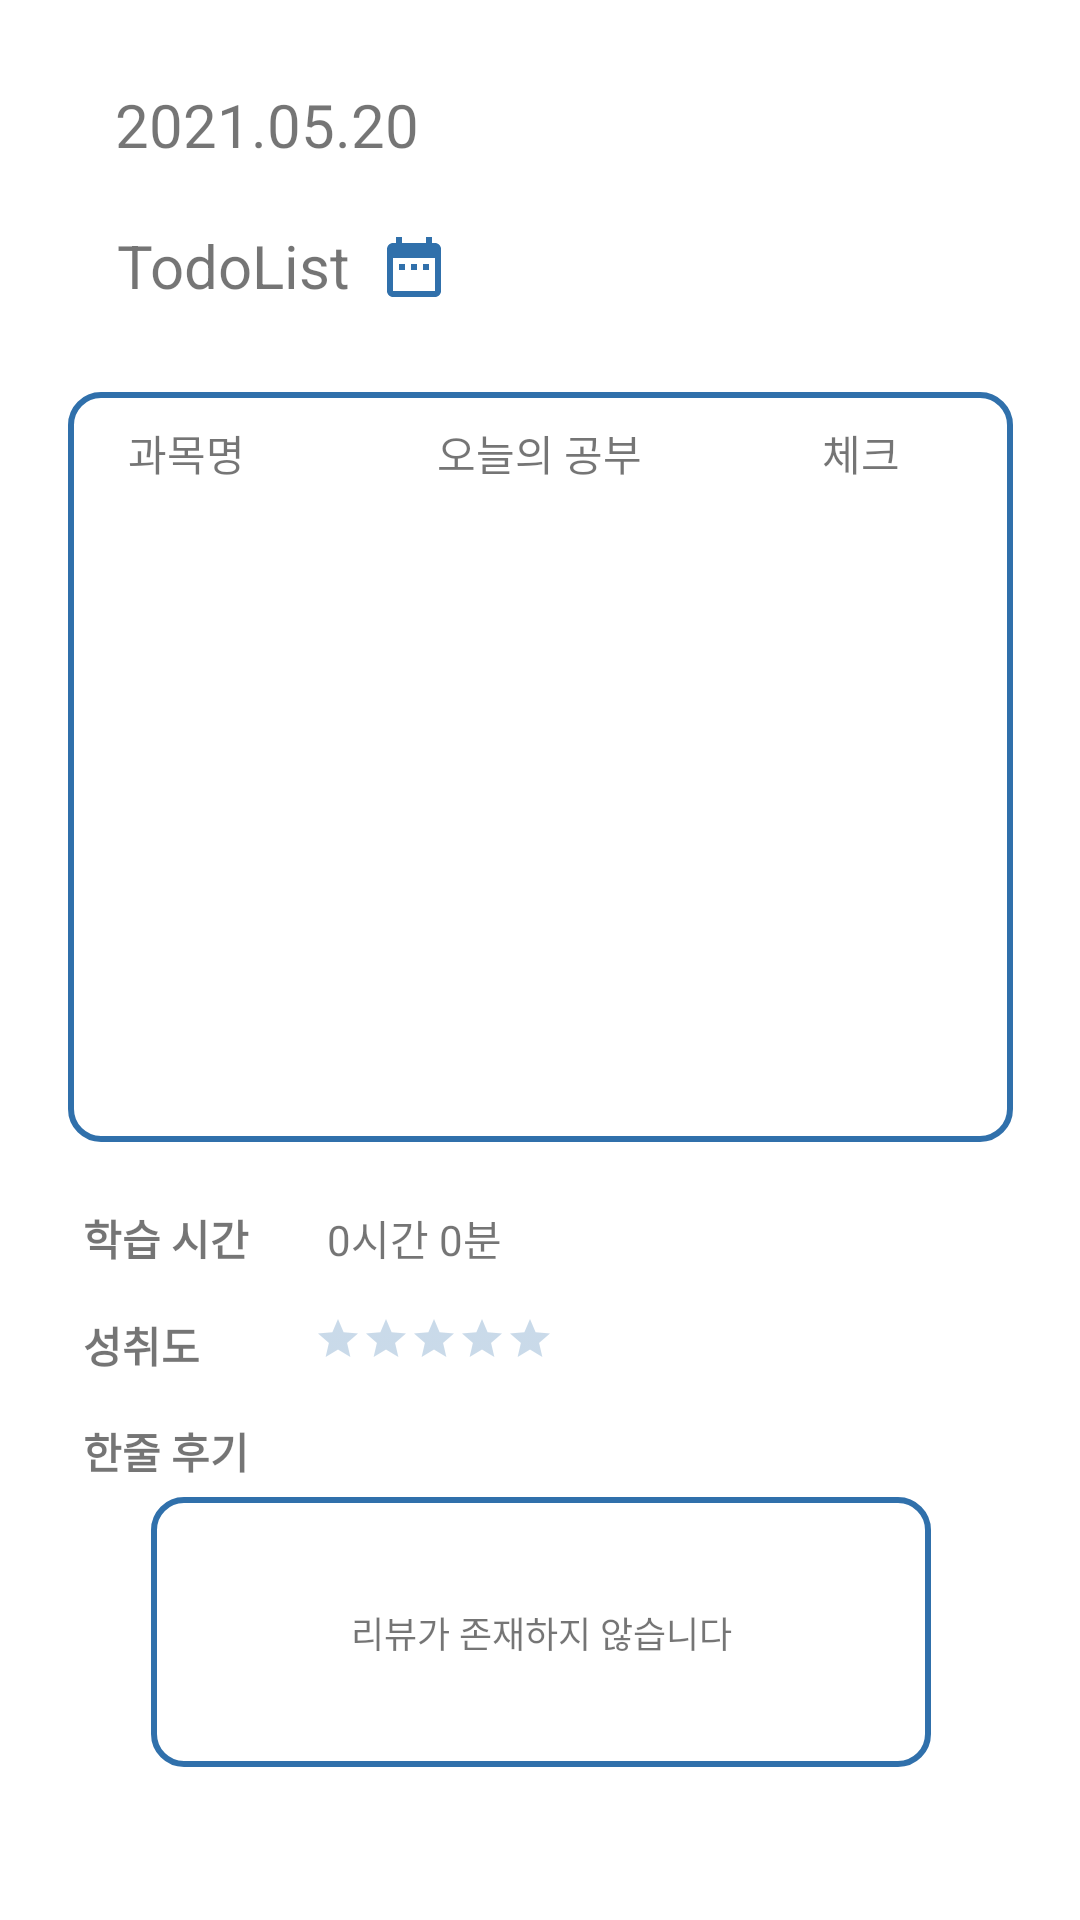

Where to tap for icons on this 1080 x 1920 app screen, as (x,y):
calendar: (414,267)
